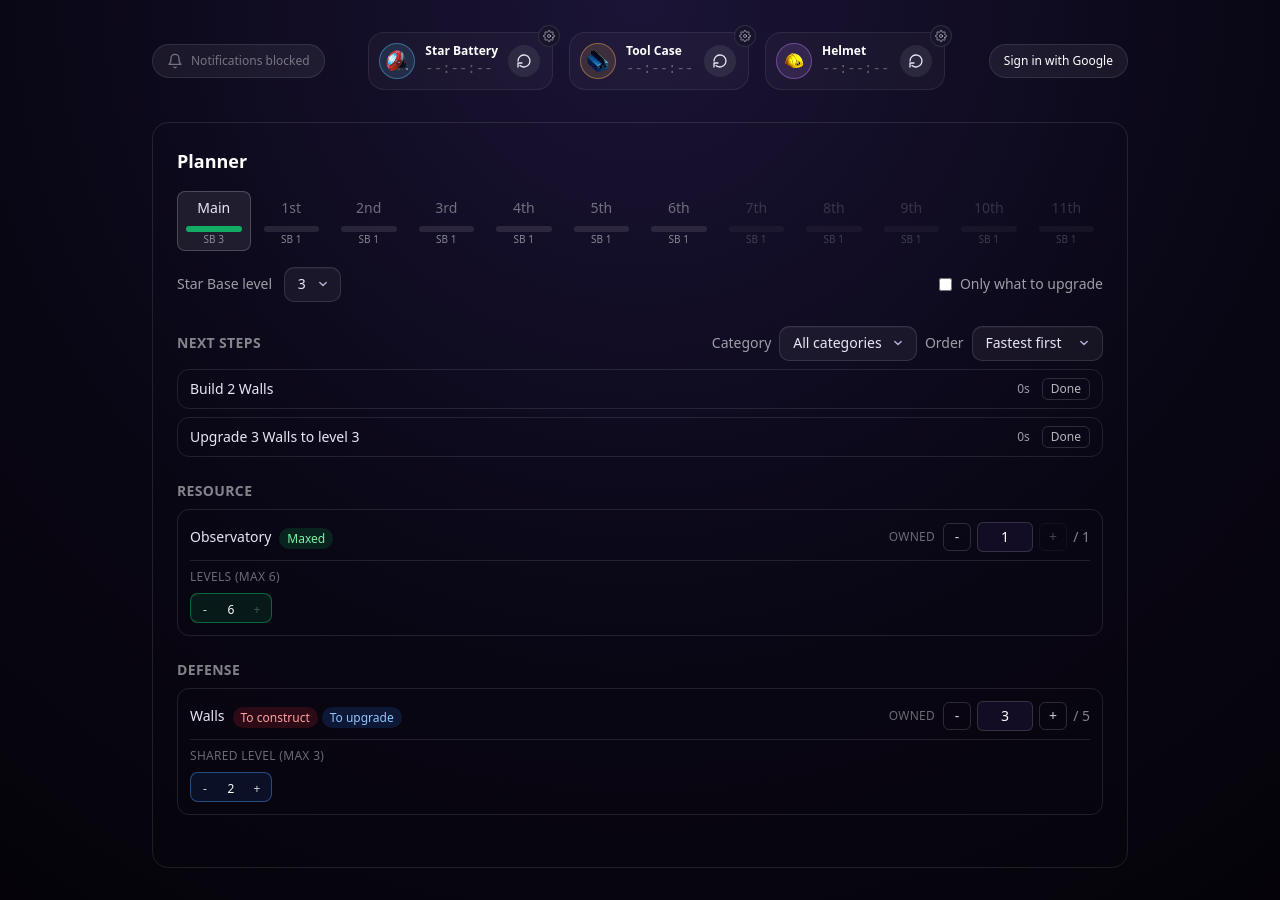
App › Planner › Walls, which share one level › raises every Wall at once
Click the button named "Increase Walls level". click: point(257, 789)
box: [247,779,267,799]
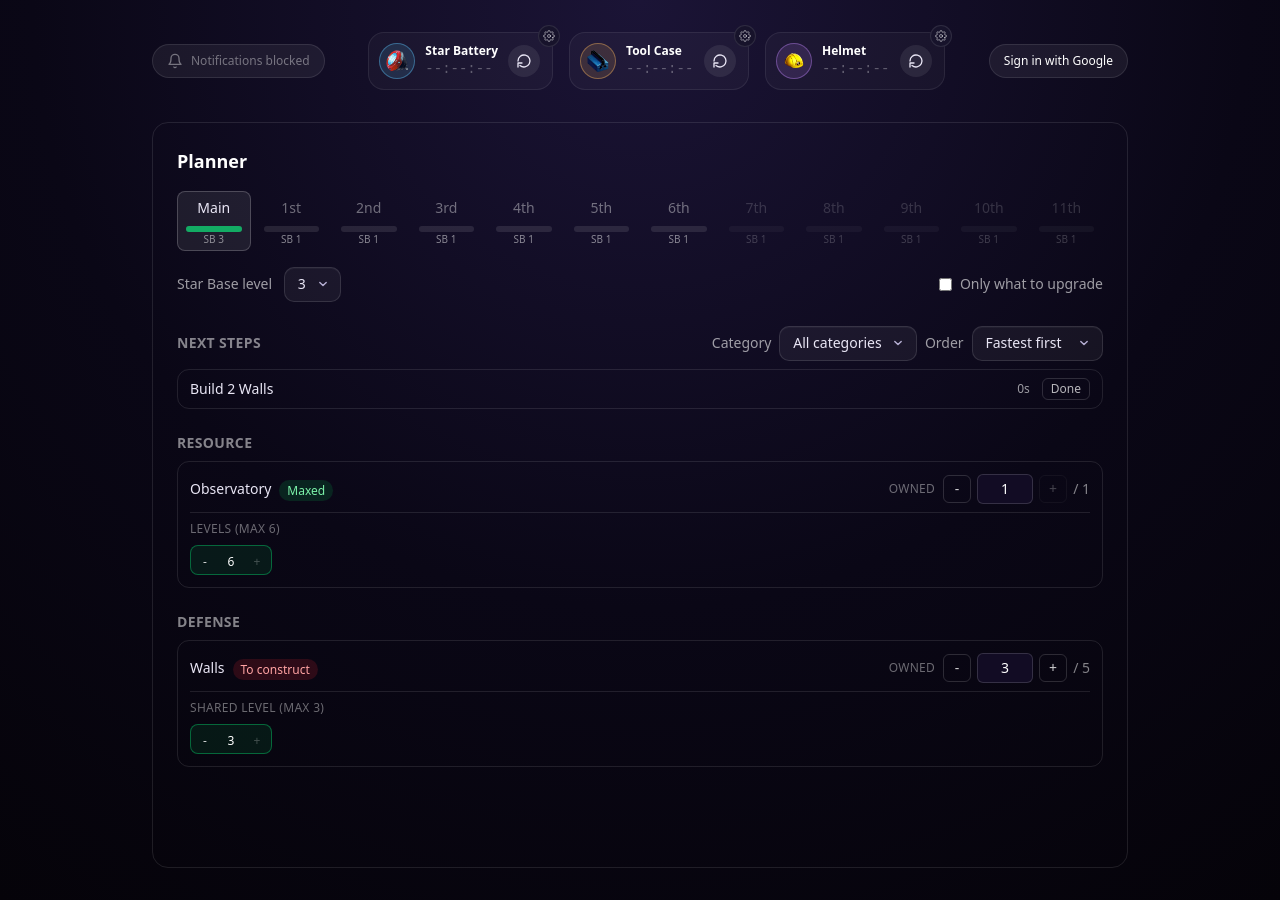
Now the number field named "Walls level" holds "3", box [217,733,245,749]
